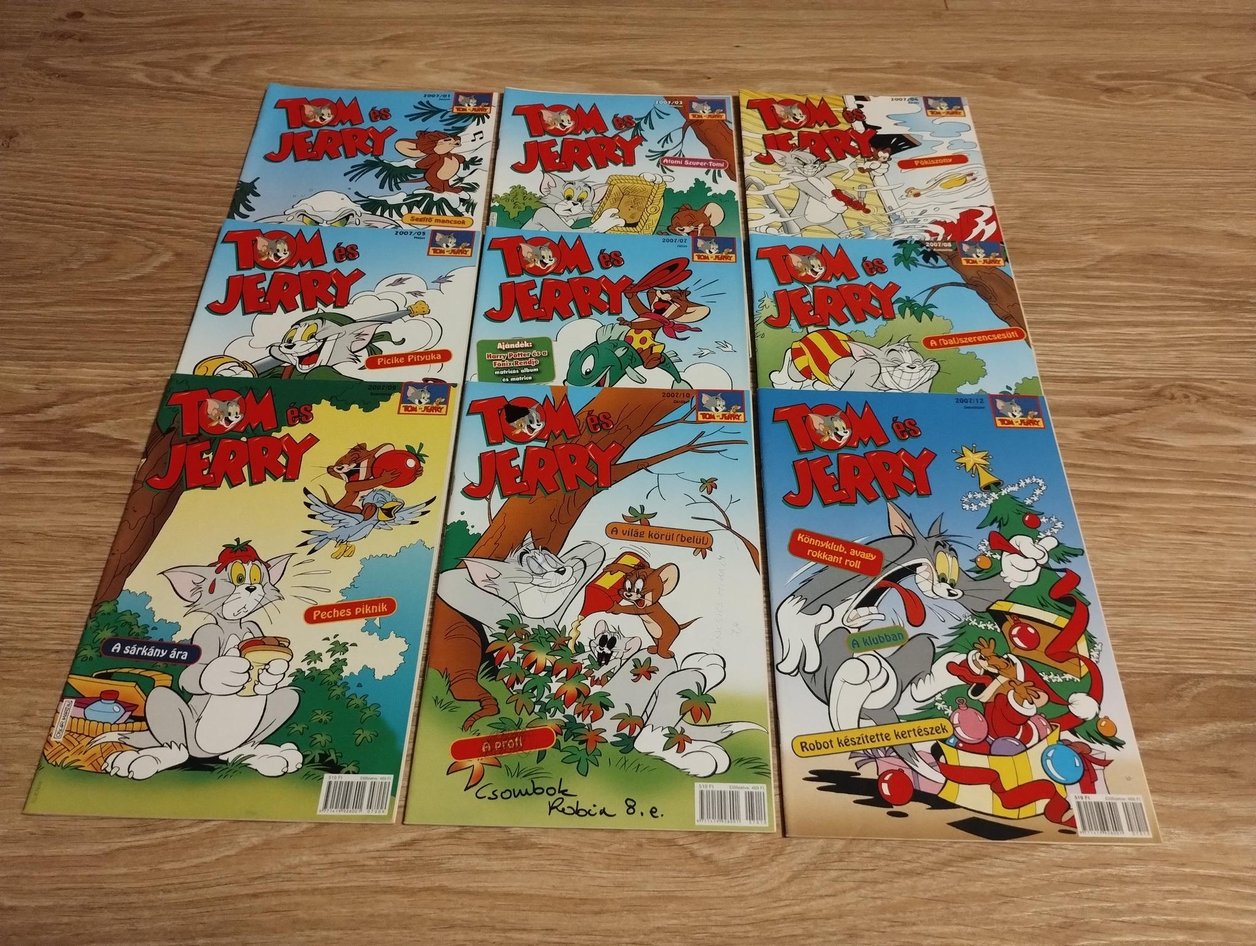comic: (26, 345, 459, 854), (756, 367, 1158, 862), (406, 381, 781, 830), (176, 219, 481, 385), (747, 234, 1043, 394), (466, 227, 752, 389), (738, 90, 1004, 241), (228, 83, 497, 229), (488, 87, 745, 238)
